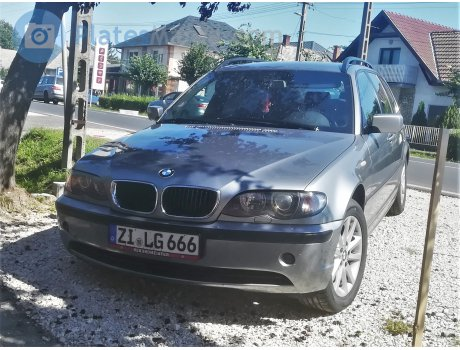License Plates: (120, 227, 196, 248)
